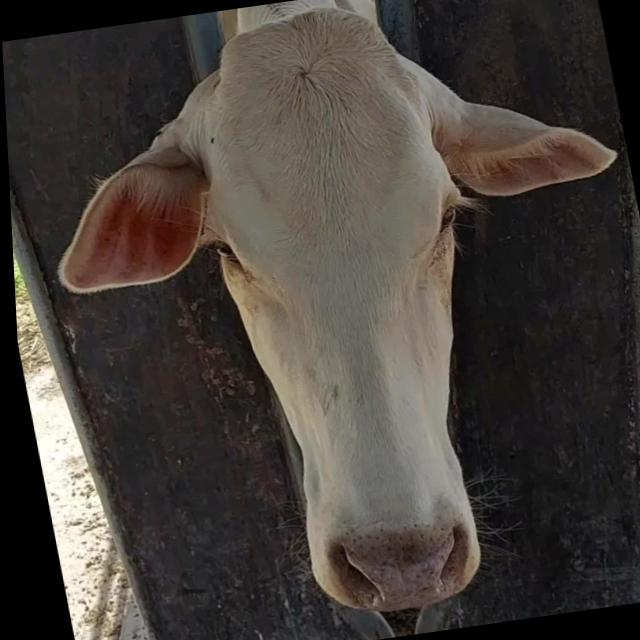cowFace: (167, 0, 552, 622)
